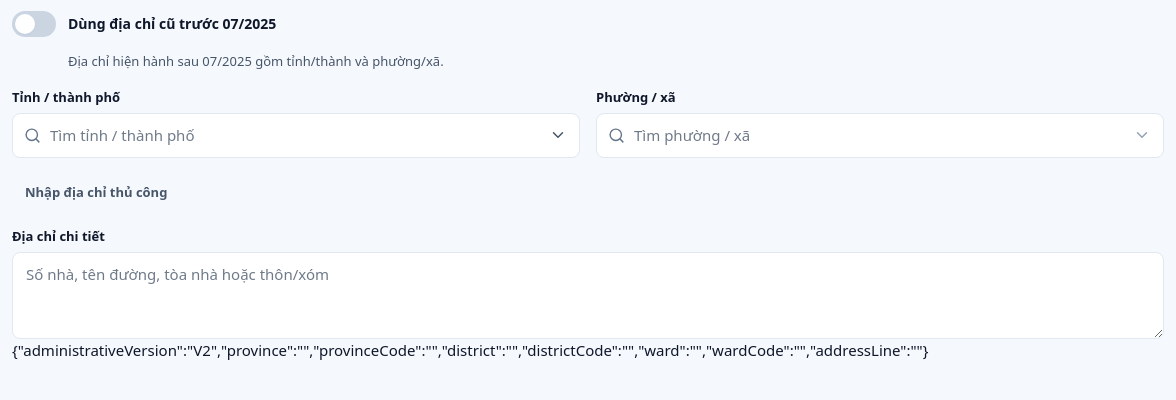
Test case: VietnamAddressFields › uses the current two-level catalog by default and stores codes with names
What coordinates should you click on to do the following:
click the dropdown labelled "Tỉnh / thành phố"
I would click on:
 (296, 136)
Its box is top-left (12, 113), bottom-right (580, 158).
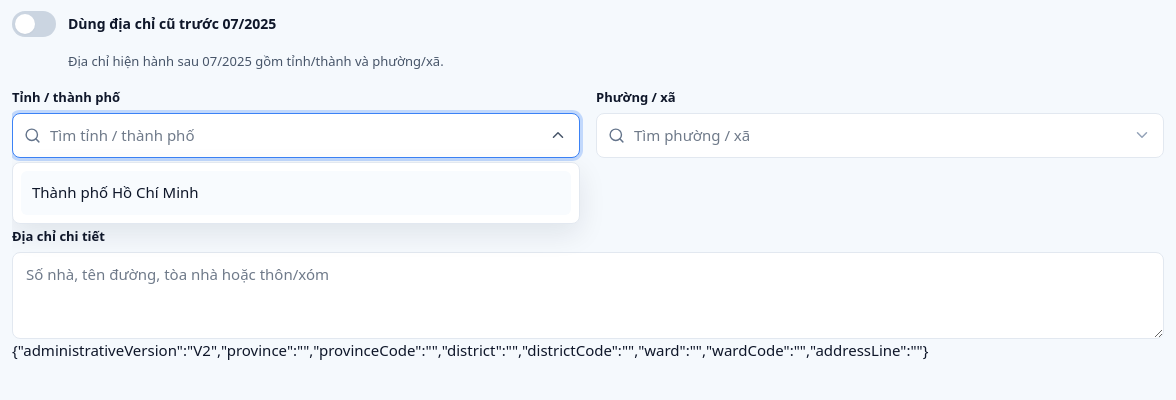
What coordinates should you click on to do the following:
click the option "Thành phố Hồ Chí Minh"
I would click on:
 (115, 192)
Its box is top-left (21, 171), bottom-right (571, 215).
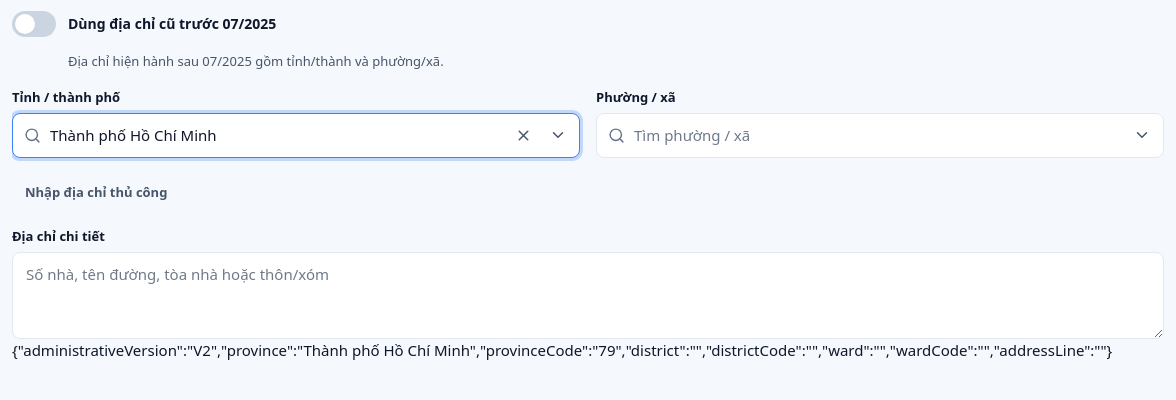
What coordinates should you click on to do the following:
click the dropdown labelled "Phường / xã"
I would click on:
 (880, 136)
Its box is top-left (596, 113), bottom-right (1164, 158).
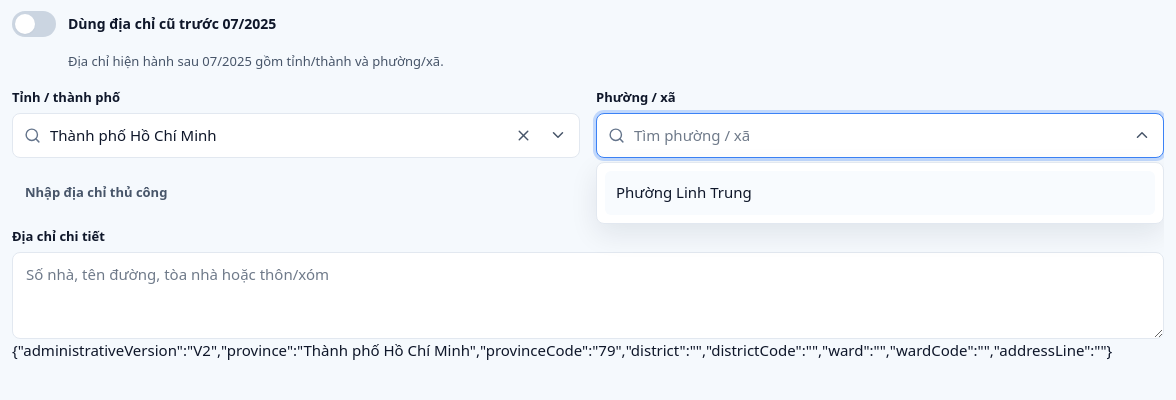
What coordinates should you click on to do the following:
click the option "Phường Linh Trung"
I would click on:
 (684, 192)
Its box is top-left (605, 171), bottom-right (1155, 215).
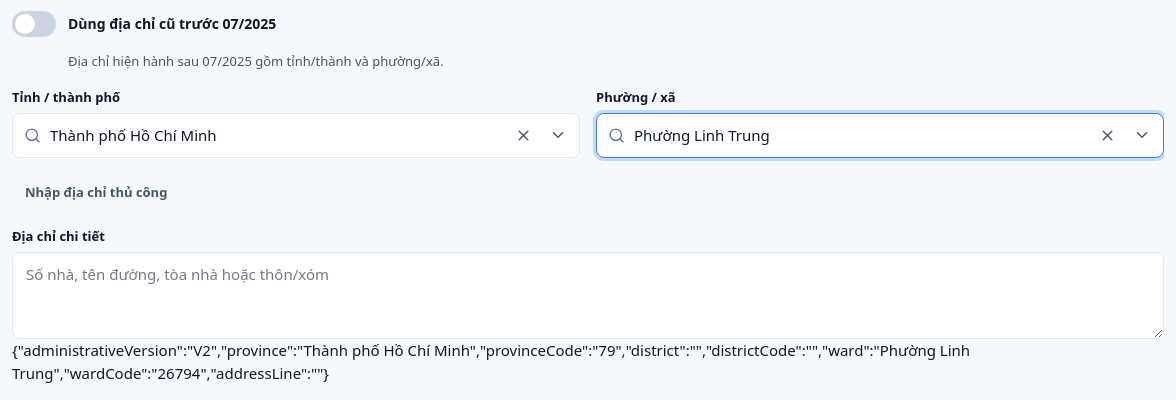
Result: the text with test id "value" shows "\"provinceCode\":\"79\"" at top-left (12, 340), bottom-right (970, 383)
Result: the text with test id "value" shows "\"wardCode\":\"26794\"" at top-left (12, 340), bottom-right (970, 383)
